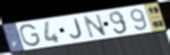4: (43, 20, 62, 45)
9: (129, 8, 150, 32), (108, 10, 128, 35)
G: (19, 23, 42, 48)
J: (69, 18, 84, 40)
N: (81, 12, 109, 39)
